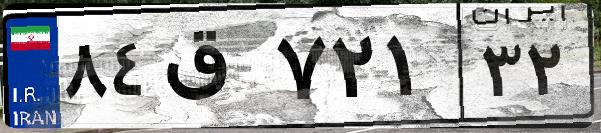1: (385, 28, 445, 110)
2: (330, 28, 385, 110), (525, 38, 570, 115)
3: (475, 38, 525, 113)
4: (110, 28, 158, 98)
7: (270, 28, 330, 110)
8: (57, 26, 110, 100)
ق: (158, 20, 270, 120)
